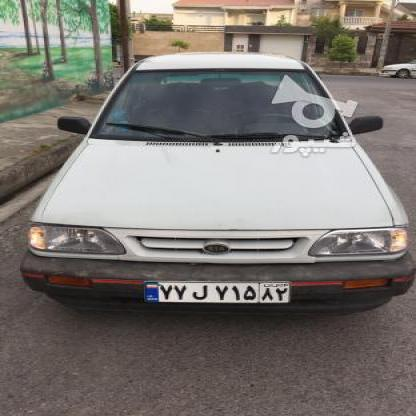licence: (138, 279, 290, 303)
